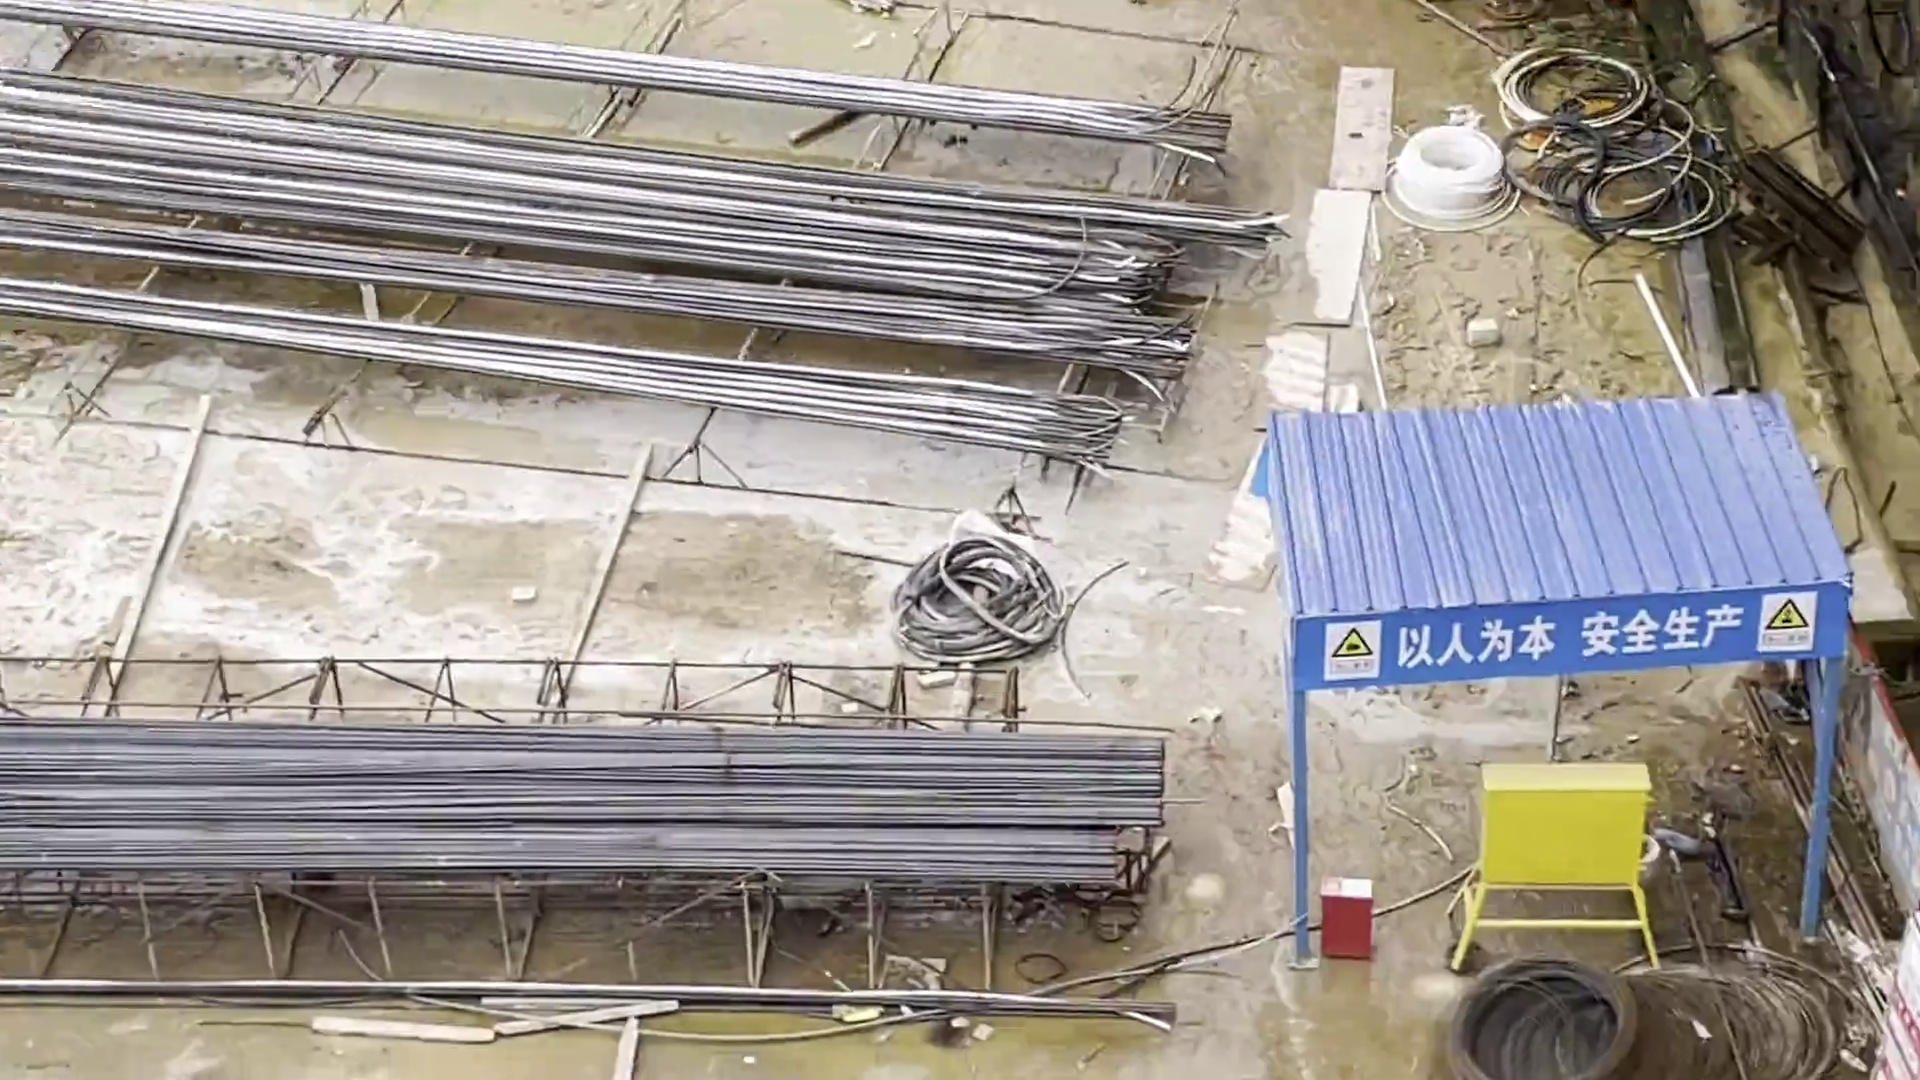ebox: (1472, 756, 1655, 951)
rebar: (65, 24, 1218, 447), (18, 676, 1183, 913)
slogan: (1320, 593, 1838, 676)
